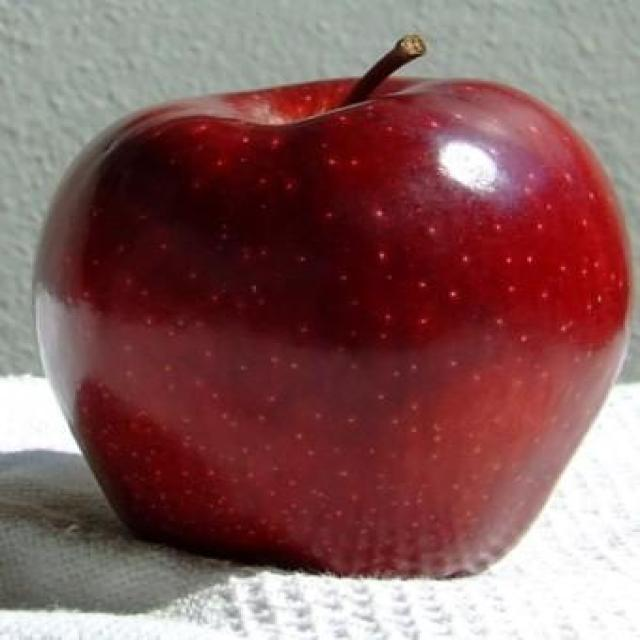apple: (30, 33, 634, 580)
